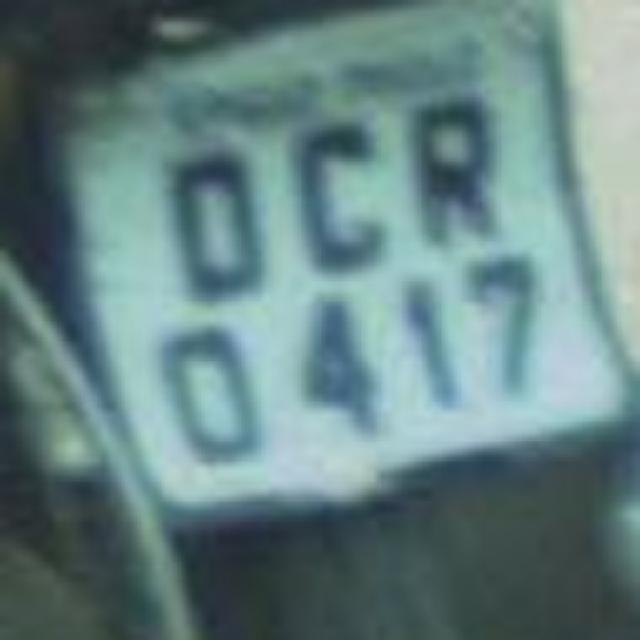0: (140, 296, 288, 484)
1: (376, 244, 476, 424)
4: (275, 260, 400, 452)
7: (444, 232, 564, 408)
C: (272, 108, 400, 280)
R: (392, 80, 516, 255)
